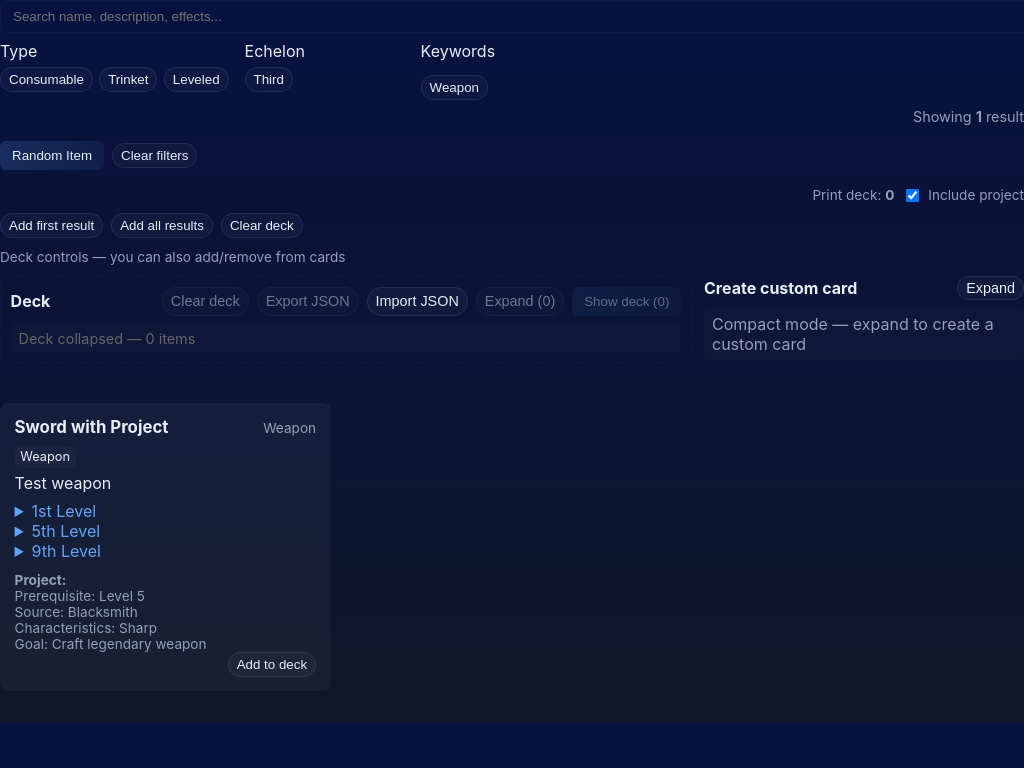
ItemList › random item card respects Include project toggle
Uncheck the Include project toggle first (it's checked by default)
Click the checkbox labelled "Include project".
click(913, 196)  # box x1=906 y1=189 x2=919 y2=202
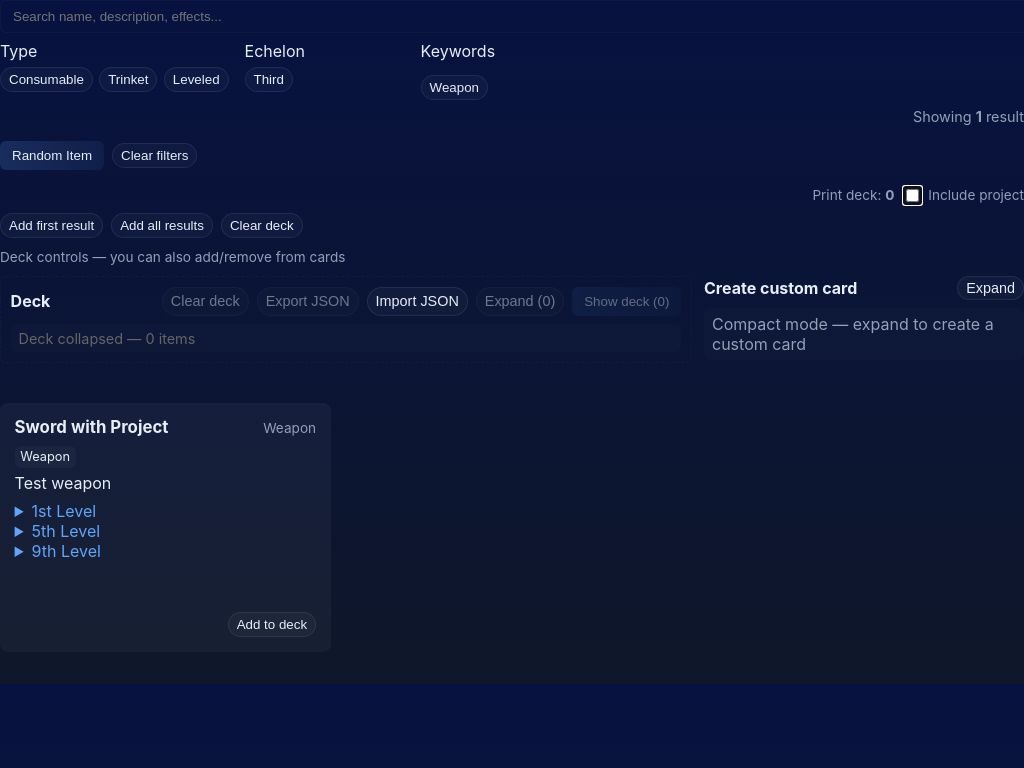
Click the button "Random Item".
click(52, 155)  # box x1=0 y1=141 x2=104 y2=170
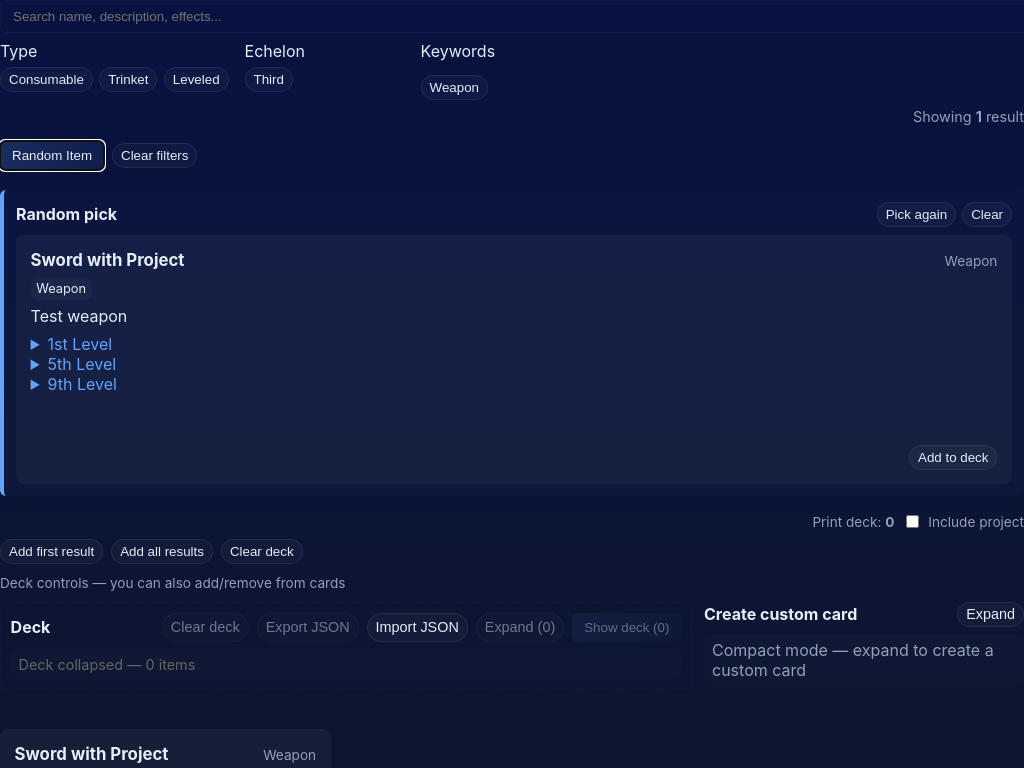
Expected: the text "Project:" is not shown
Expected: the text "Blacksmith" is not shown
Enable Include project toggle
Click the checkbox labelled "Include project".
click(913, 522)  # box x1=906 y1=515 x2=919 y2=528
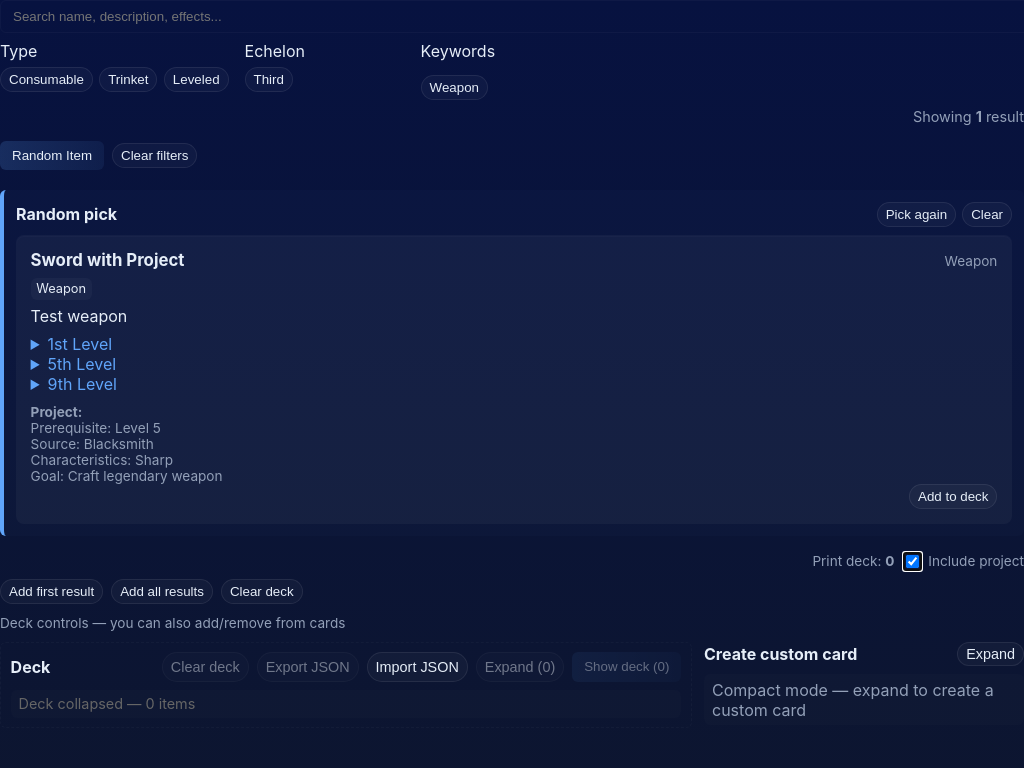
Result: the text "Project:" is shown at x1=31 y1=404 x2=82 y2=420
Result: the text "Source: Blacksmith" is shown at x1=31 y1=436 x2=154 y2=452
